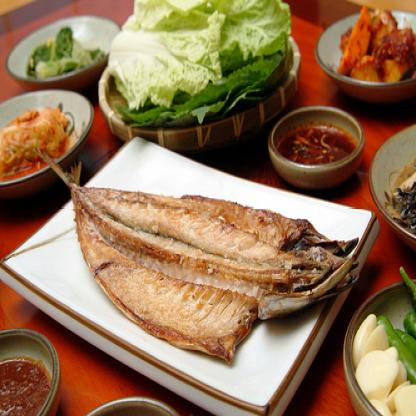Peixe: (41, 163, 355, 368)
